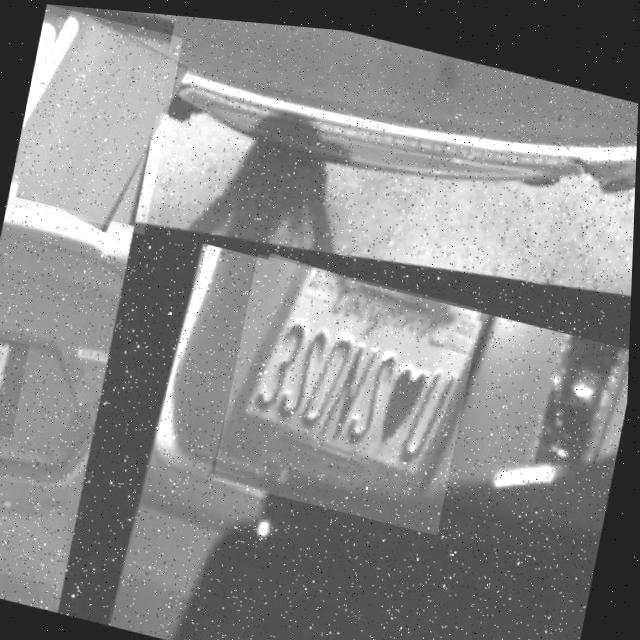LicensePlate: (216, 247, 485, 530), (9, 2, 184, 234), (0, 334, 32, 438)
